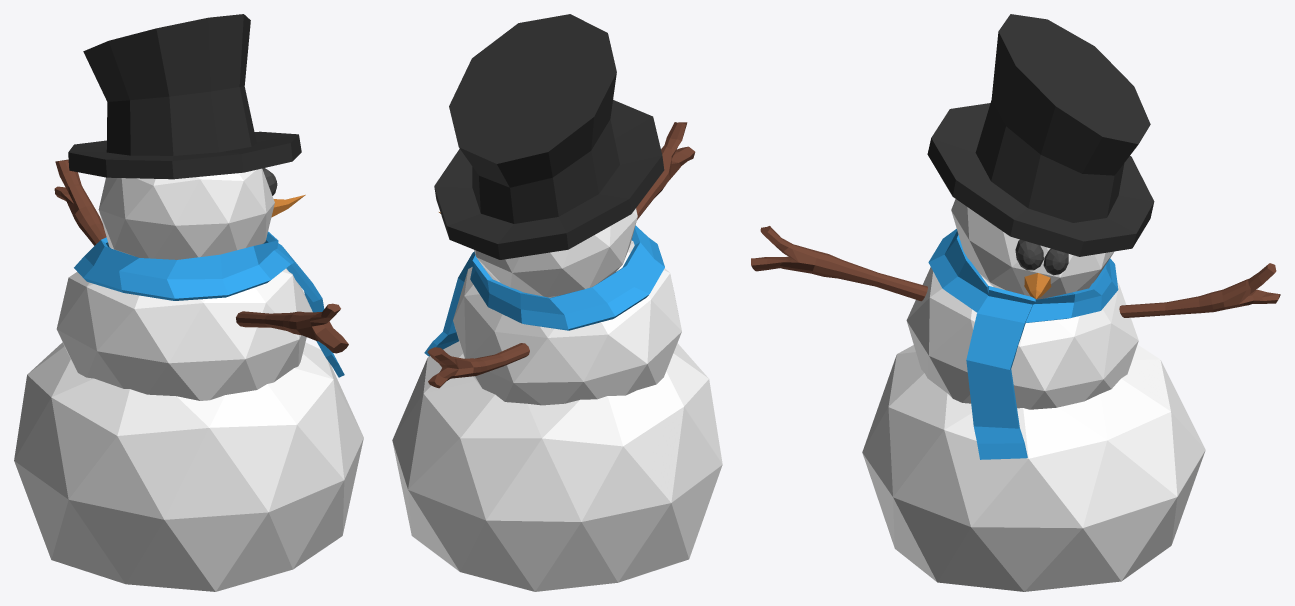
File: Decal.fbx
The picture shows the model from 3 angles, left to right: view 1: azimuth 30°, elevation 25°; view 2: azimuth 150°, elevation 25°; view 3: azimuth 270°, elevation 25°; orthographic projection. The views are drawn at different scales.
Parts seen in each view (by area): view 1: Snowman; view 2: Snowman; view 3: Snowman.
Boxes of the visible parts, x1,y1,x2,y2 form: Snowman: (14, 14, 363, 591); Snowman: (392, 14, 722, 591); Snowman: (751, 14, 1280, 591).
Bounding box in the file's own units: 198 × 338 × 323.
Materials: 1 (1 with a texture image).
